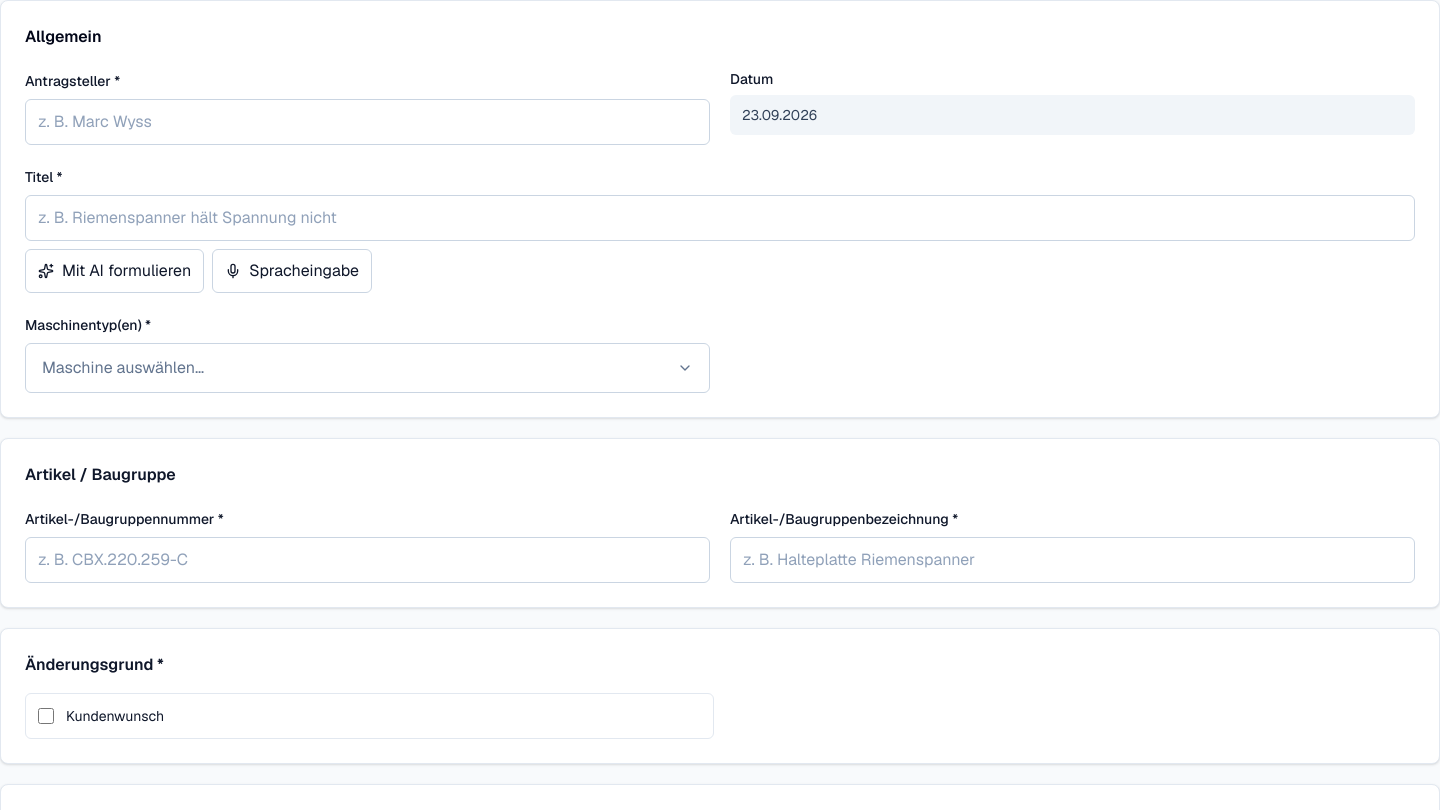
Test case: Fehlende Maschine nacherfassen › zeigt die Begründung, wenn der Server ablehnt
Click the button "Maschine auswählen…" at (123, 368), box [34,352,701,384]
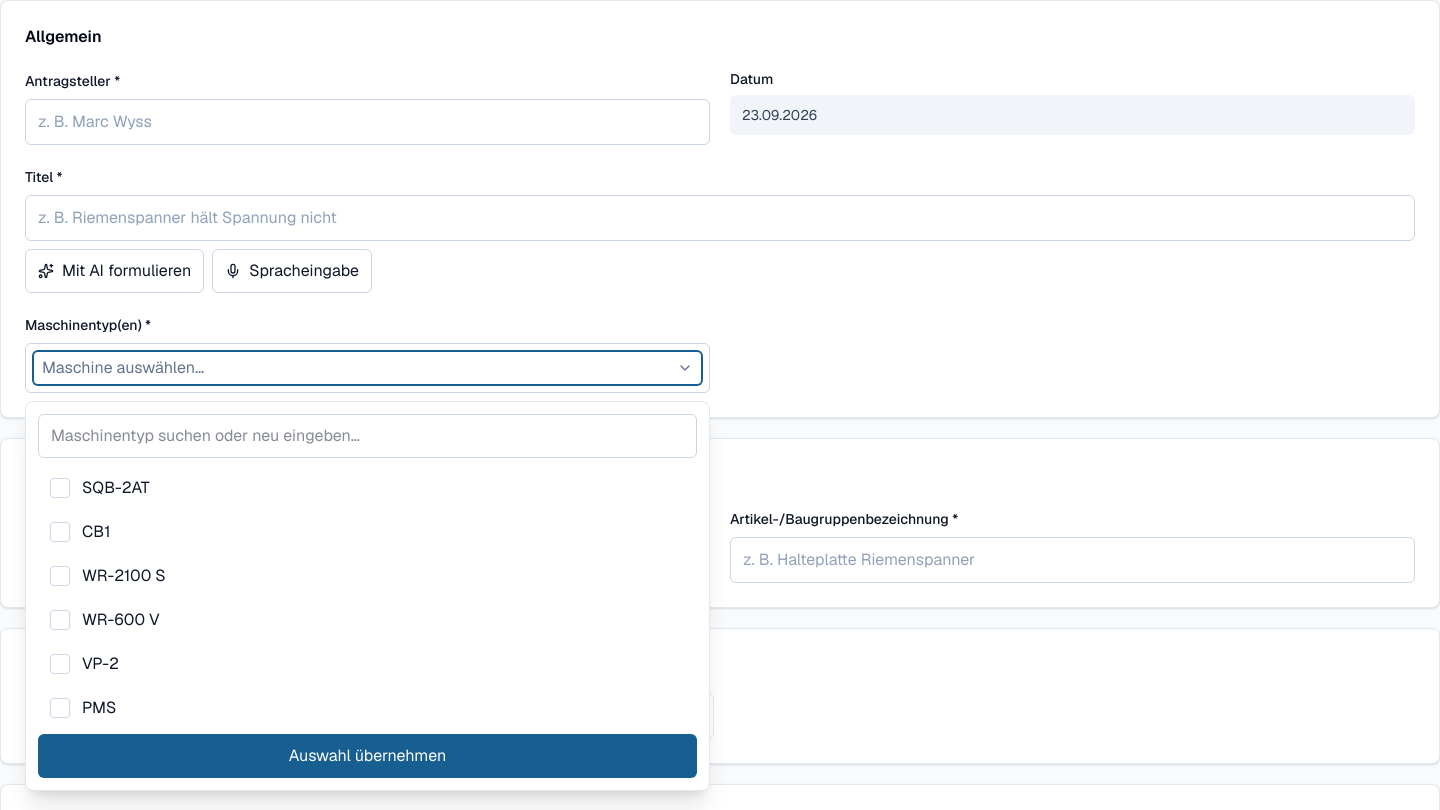
Type "SQB-2A" into the field labelled "Maschinentyp suchen oder neu eingeben…" at (368, 436), box [38,414,697,458]
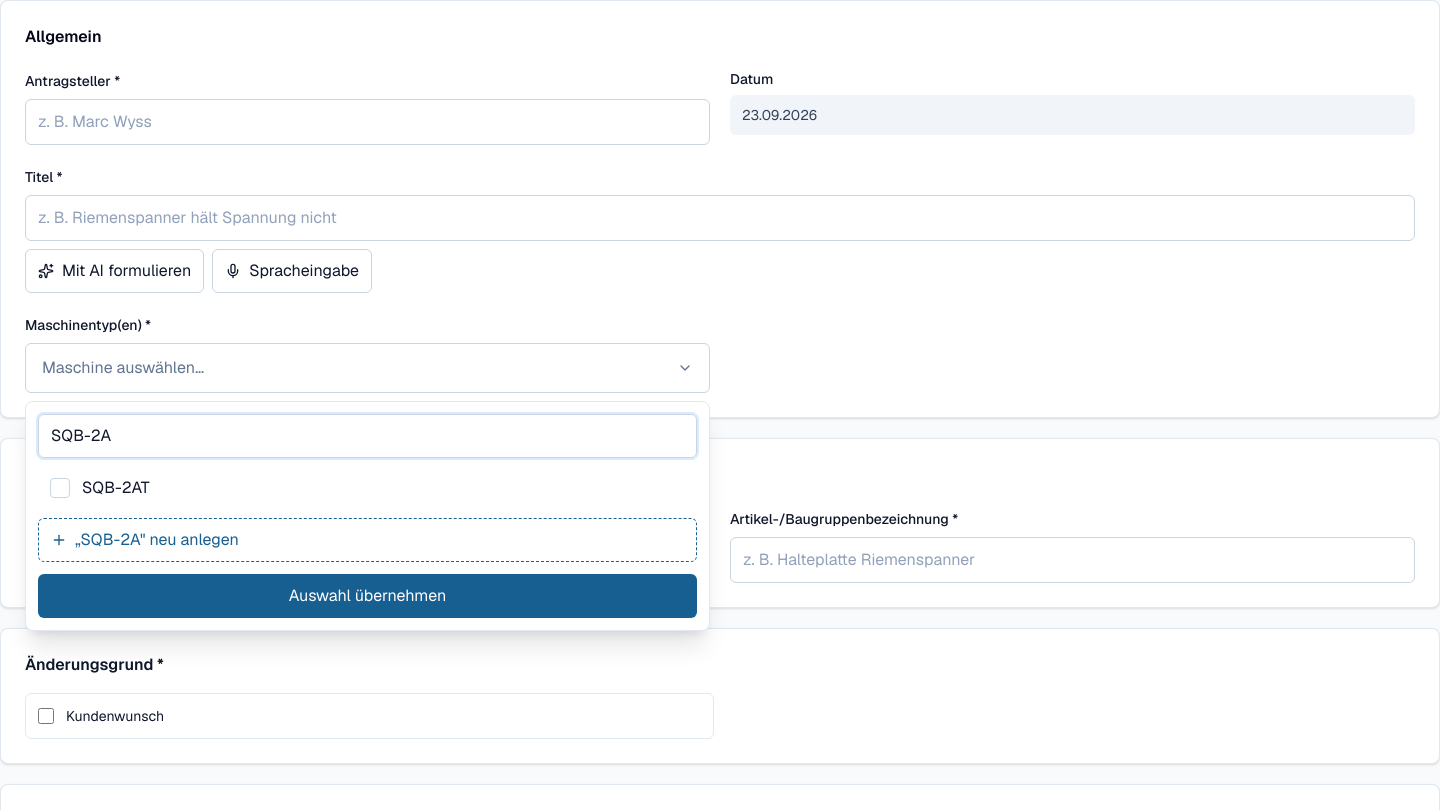
Click the button "„SQB-2A\" neu anlegen" at (157, 540), box [38,518,697,562]
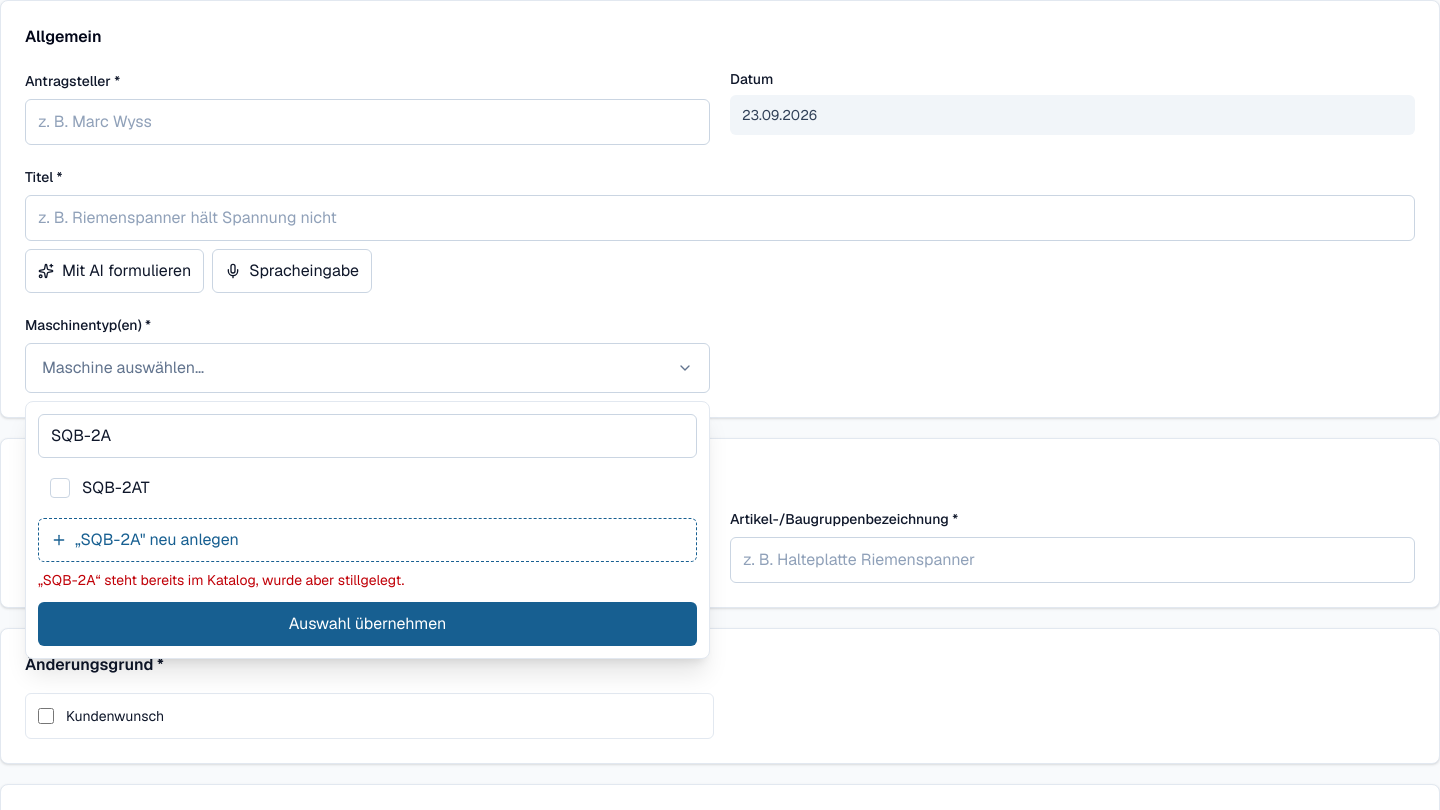
expect the text "„SQB-2A“ steht bereits im Katalog, wurde aber stillgelegt." is shown: met, box [38,571,404,589]
